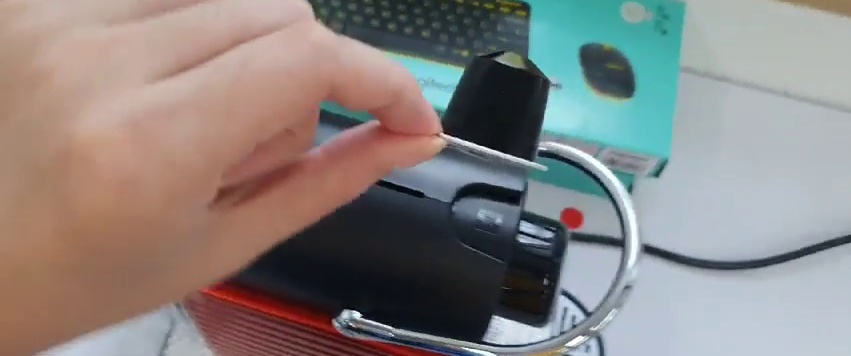capsule_10: (434, 47, 555, 178)
